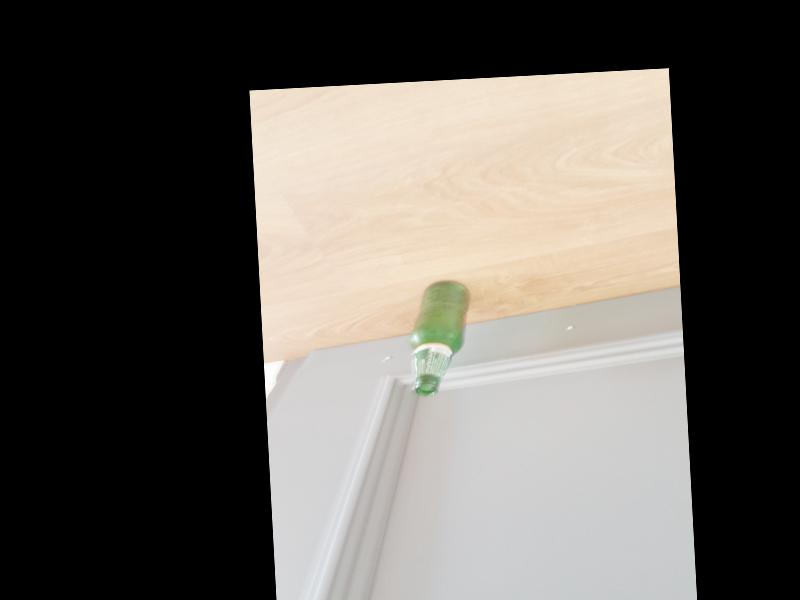Beer: (408, 279, 473, 395)
